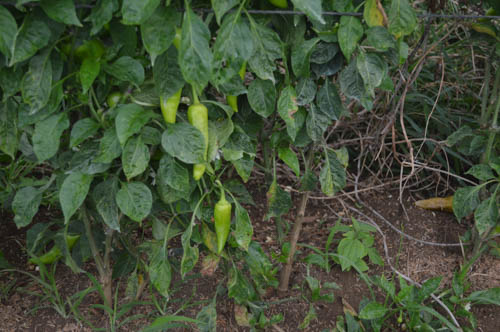ChiliPepper: (187, 104, 209, 181), (210, 202, 232, 253), (162, 90, 178, 126)
